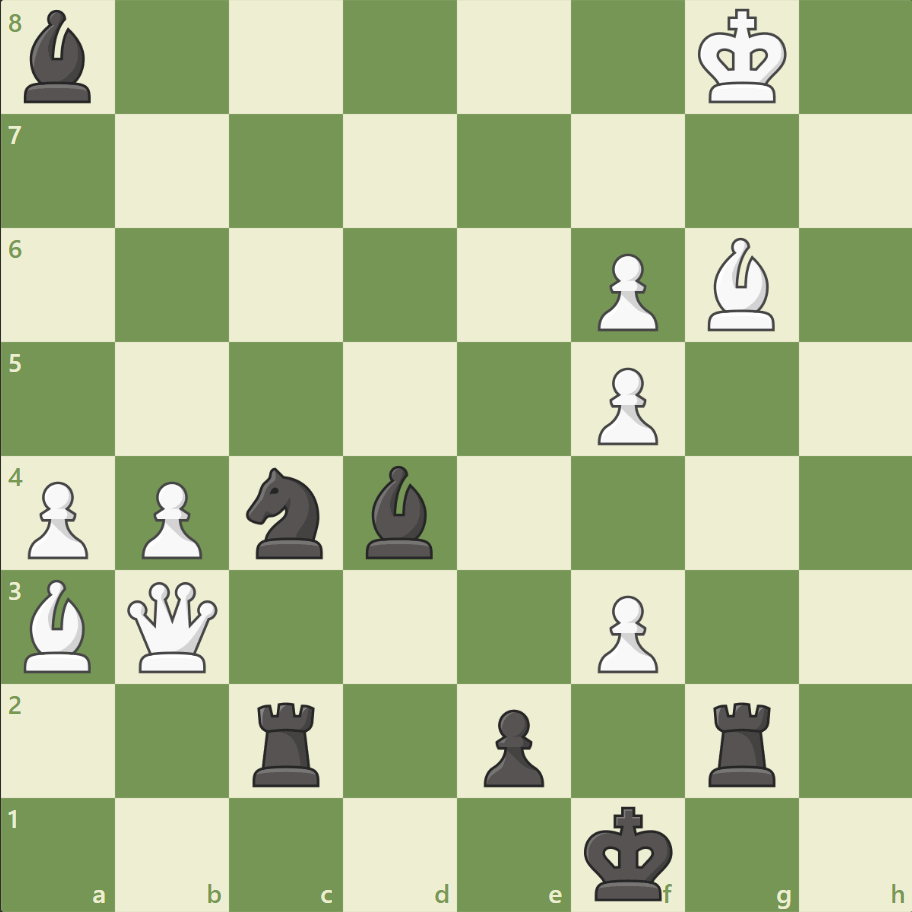B: (698, 233, 782, 336), (17, 574, 101, 676)
K: (692, 4, 792, 112)
P: (20, 473, 95, 564), (133, 473, 208, 564), (588, 246, 662, 337), (588, 359, 662, 450), (588, 586, 662, 677)
Q: (124, 576, 223, 676)
b: (17, 6, 101, 109), (358, 460, 442, 563)
k: (579, 798, 679, 906)
n: (238, 461, 335, 564)
p: (474, 700, 549, 791)
r: (246, 693, 329, 790), (700, 693, 783, 790)
